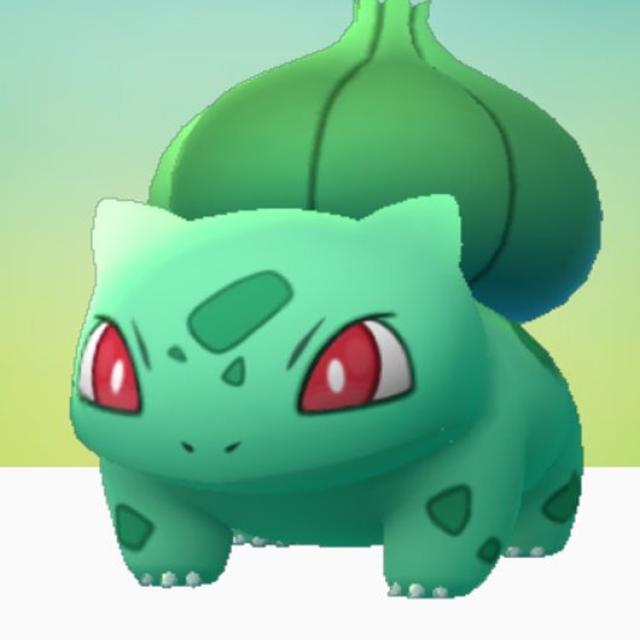Bulbasaur: (73, 195, 586, 590)
